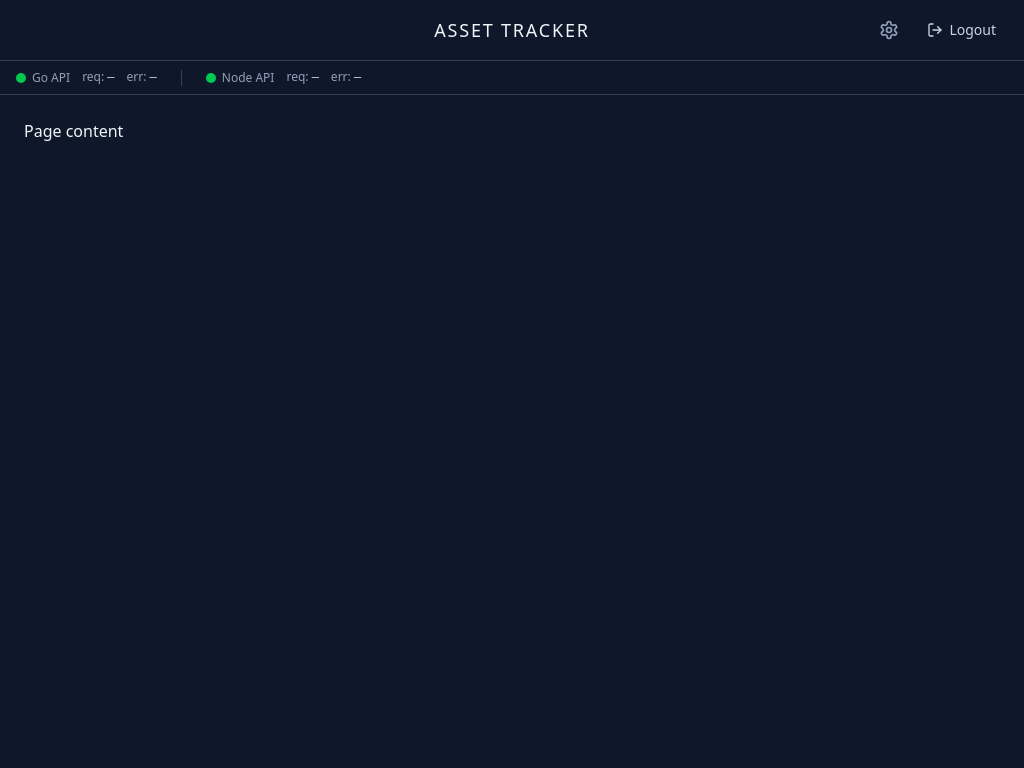
Test case: AppLayout › renders a settings gear button that opens the SettingsPanel
Note: Click the gear button
Click the button named "settings": (889, 30) [871,12,907,48]
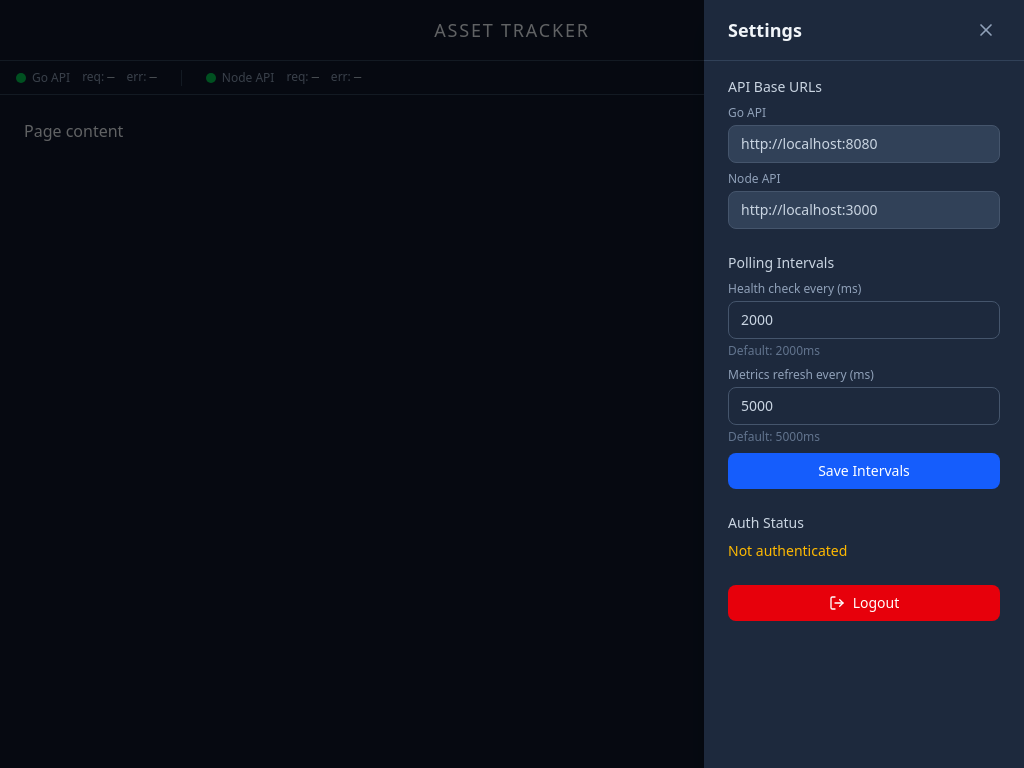
Check: the element with test id "settings-panel" is shown, box [704,0,1023,767]
